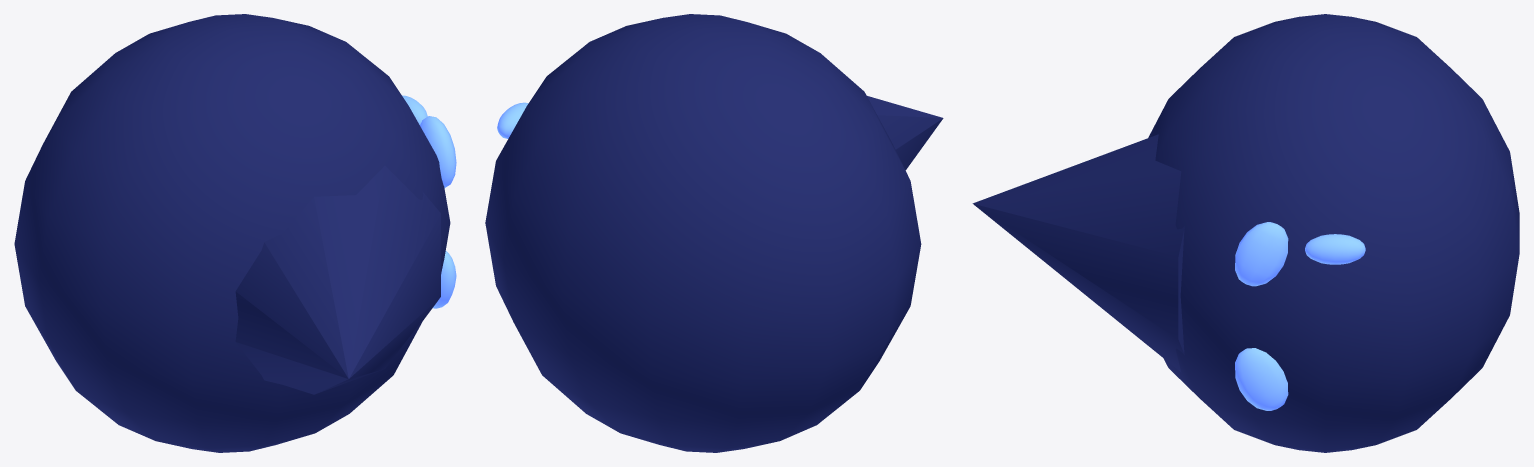
The model's file is trauma-rozpacz.glb.
The picture shows the model from 3 angles, left to right: view 1: azimuth 30°, elevation 25°; view 2: azimuth 150°, elevation 25°; view 3: azimuth 270°, elevation 25°; orthographic projection.
Parts seen in each view (by area): view 1: Shadow, Glow; view 2: Shadow, Glow; view 3: Shadow, Glow.
Part boxes in pixels (bbox=[...]): Shadow: bbox=[14, 14, 450, 452]; Glow: bbox=[402, 95, 456, 308]; Shadow: bbox=[485, 14, 943, 452]; Glow: bbox=[497, 102, 528, 138]; Shadow: bbox=[972, 14, 1519, 452]; Glow: bbox=[1235, 222, 1365, 410].
Bounding box in the file's own units: 0.9015 × 0.9 × 1.11.
